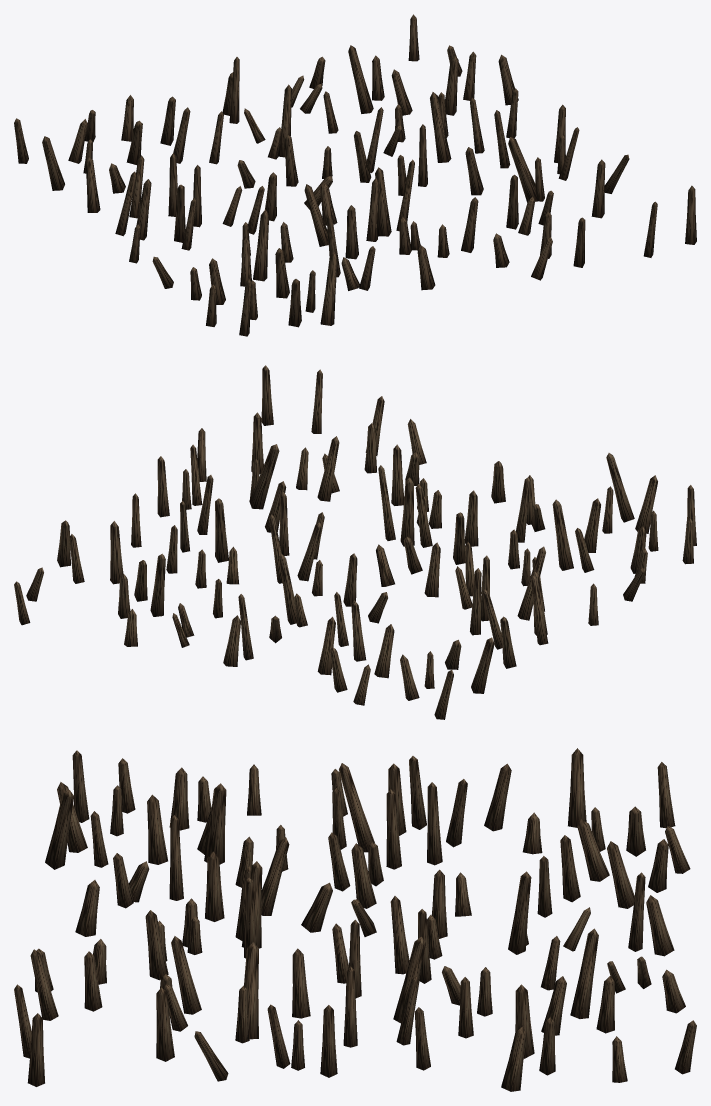
Rendered from pneumatophores.glb.
3 views of the same model, one above another, from view 1: azimuth 30°, elevation 25°; view 2: azimuth 150°, elevation 25°; view 3: azimuth 270°, elevation 25° (orthographic). The views are drawn at different scales.
Visible parts, largest first — view 1: wood; view 2: wood; view 3: wood.
Part boxes in pixels (x1,y1,x2,y2): wood: [14, 14, 696, 336]; wood: [14, 365, 696, 719]; wood: [14, 748, 696, 1091].
Bounding box in the file's own units: 2.96 × 0.4379 × 2.97.
Materials: 1 (1 with a texture image).
